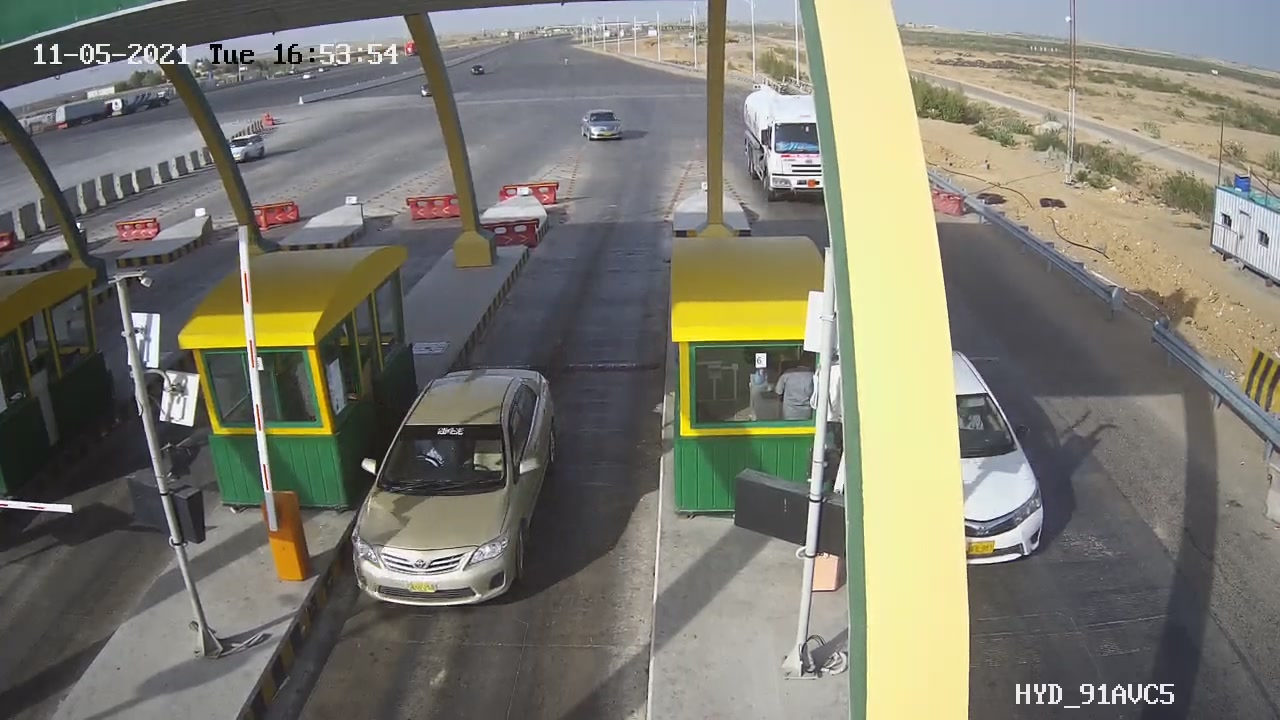F1: (331, 349, 575, 629)
